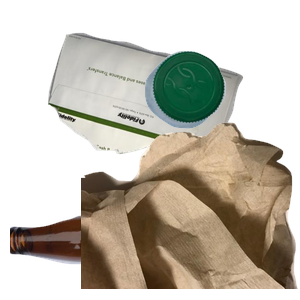glass: (10, 188, 250, 300)
paper: (45, 30, 281, 195)
plastic: (142, 48, 300, 169)
trash: (81, 120, 300, 300)
